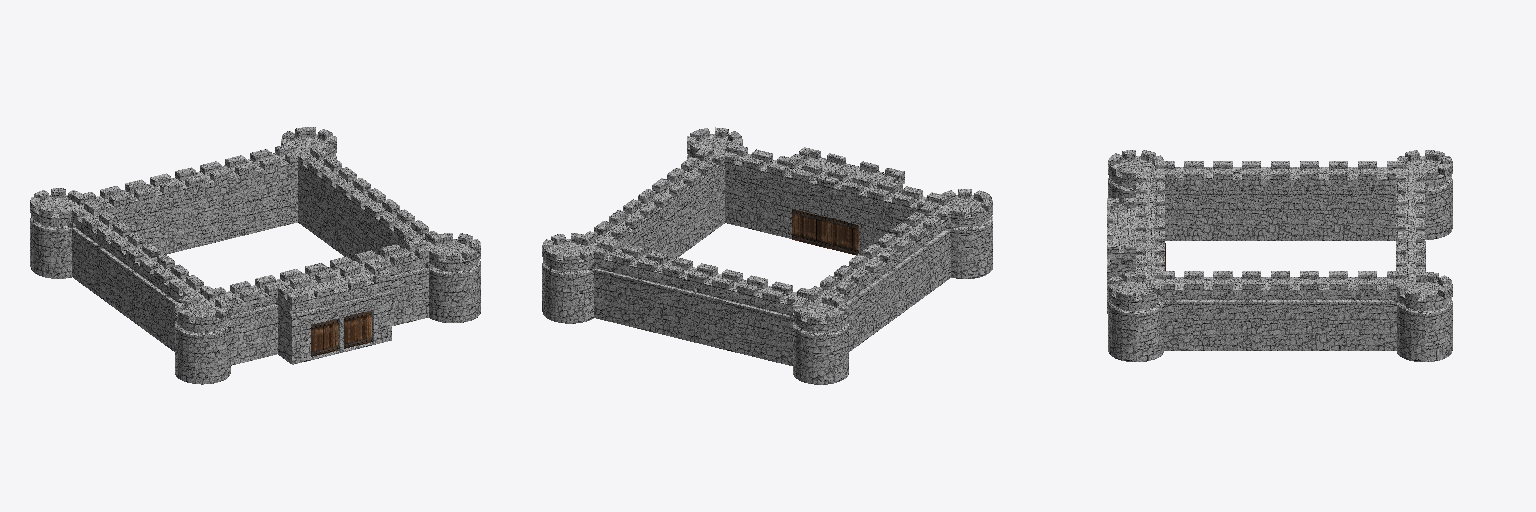
3 views of the same model, side by side, from view 1: azimuth 30°, elevation 25°; view 2: azimuth 150°, elevation 25°; view 3: azimuth 270°, elevation 25° (orthographic).
Parts seen in each view (by area): view 1: castillo:Box001, castillo:Tube002, castillo:Tube001, castillo:Tube003, castillo:Tube004; view 2: castillo:Box001, castillo:Tube003, castillo:Tube004, castillo:Tube002, castillo:Tube001; view 3: castillo:Box001, castillo:Tube001, castillo:Tube004, castillo:Tube003, castillo:Tube002.
Part boxes in pixels (x1,y1,x2,y2): castillo:Box001: (59,143,452,365); castillo:Tube002: (175,295,230,384); castillo:Tube001: (429,233,480,322); castillo:Tube003: (30,188,81,278); castillo:Tube004: (281,127,336,158); castillo:Box001: (571,143,964,365); castillo:Tube003: (793,296,848,384); castillo:Tube004: (542,233,593,323); castillo:Tube002: (941,189,992,278); castillo:Tube001: (687,127,742,158); castillo:Box001: (1107,161,1425,350); castillo:Tube001: (1108,272,1163,361); castillo:Tube004: (1397,272,1452,361); castillo:Tube003: (1397,150,1452,239); castillo:Tube002: (1108,150,1163,203).
Bounding box in the file's own units: 236 × 50.46 × 236.
Materials: 3 (2 with a texture image).